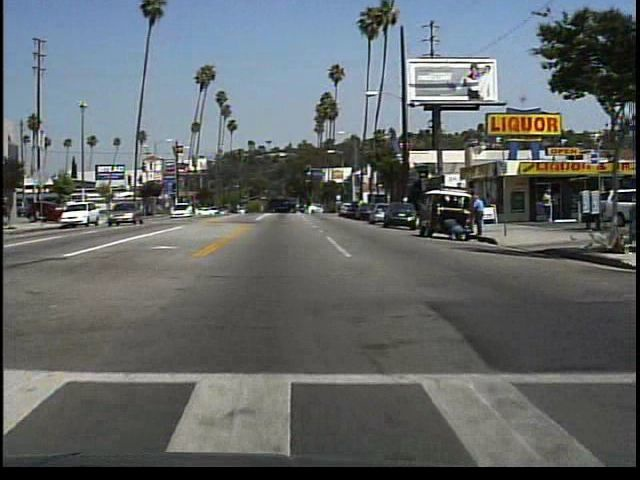person: (472, 190, 491, 239), (540, 186, 556, 226), (442, 215, 465, 242), (1, 195, 14, 226)
